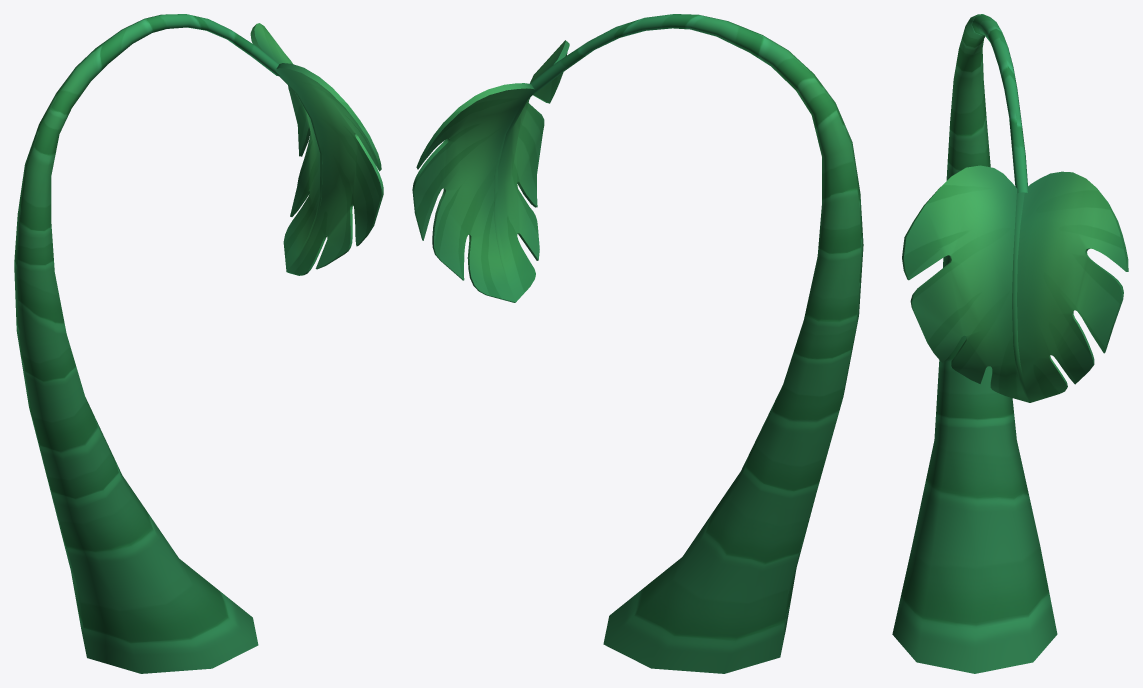
Rendered from GiantLeaf3.fbx.
The picture shows the model from 3 angles, left to right: view 1: azimuth 30°, elevation 25°; view 2: azimuth 150°, elevation 25°; view 3: azimuth 270°, elevation 25°; orthographic projection. The views are drawn at different scales.
Visible parts, largest first — view 1: GiantLeaf3; view 2: GiantLeaf3; view 3: GiantLeaf3.
Boxes of the visible parts, x1,y1,x2,y2 form: GiantLeaf3: [14, 14, 383, 673]; GiantLeaf3: [412, 14, 863, 673]; GiantLeaf3: [892, 14, 1128, 673].
Size of the model in its own units: 4.84 by 7.92 by 2.83.
